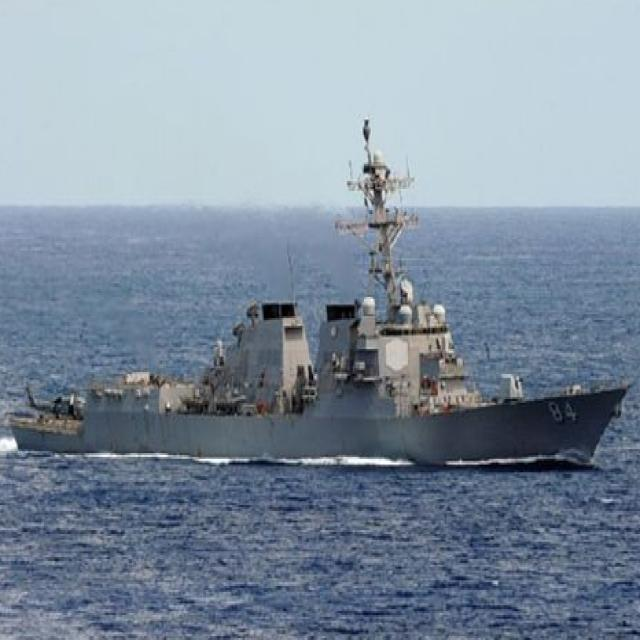navalvessels: (15, 98, 624, 469)
